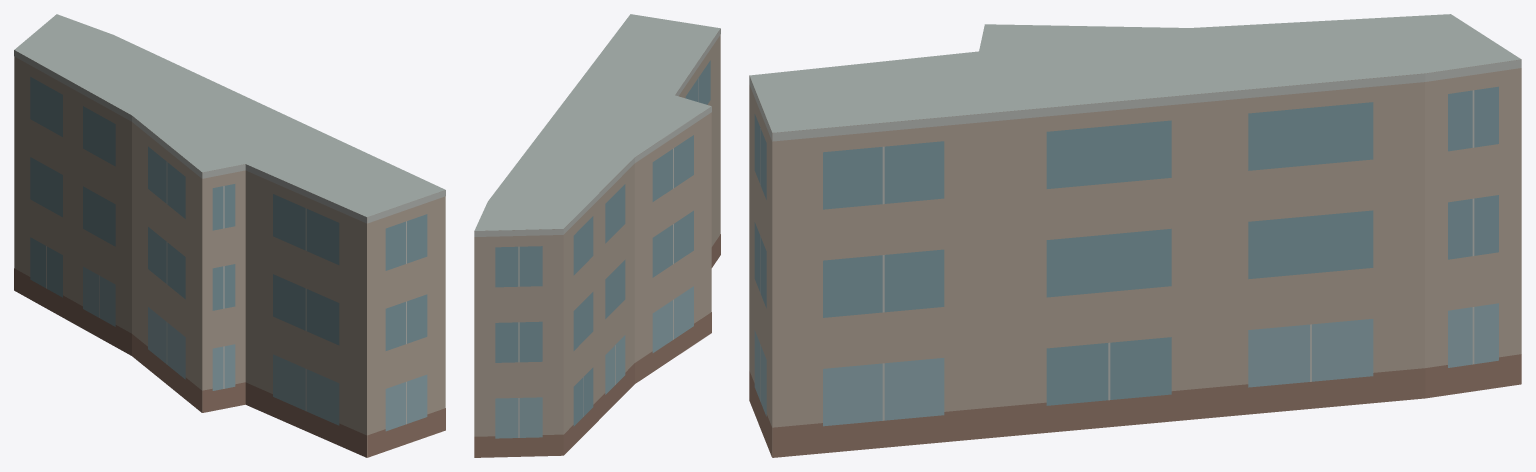
The model's file is survey-upis-32682075.glb.
3 views of the same model, side by side, from view 1: azimuth 30°, elevation 25°; view 2: azimuth 150°, elevation 25°; view 3: azimuth 270°, elevation 25° (orthographic). The views are drawn at different scales.
Parts seen in each view (by area): view 1: survey-upis-32682075.tmp; view 2: survey-upis-32682075.tmp; view 3: survey-upis-32682075.tmp.
Boxes of the visible parts, bbox=[...] form: survey-upis-32682075.tmp: bbox=[14, 14, 445, 457]; survey-upis-32682075.tmp: bbox=[474, 14, 720, 457]; survey-upis-32682075.tmp: bbox=[749, 14, 1521, 457].
Size of the model in its own units: 7.19 by 9.15 by 19.71.
